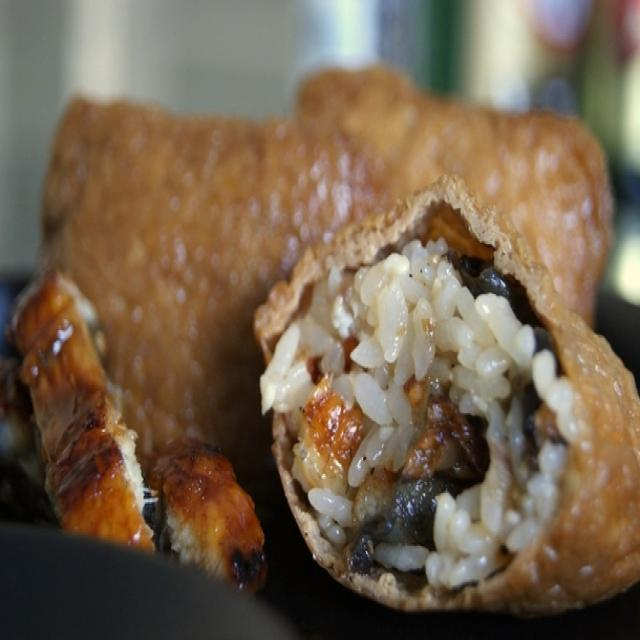寿司卷物: (25, 42, 616, 607)
